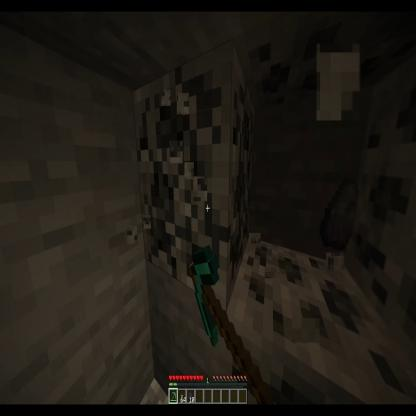coal ore: (221, 235, 416, 416), (341, 65, 416, 367)
